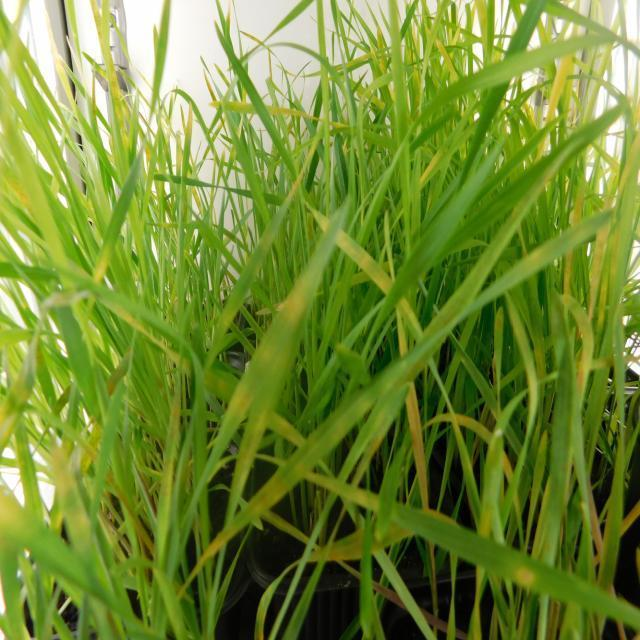Yellow Rust: (405, 381, 429, 509)
